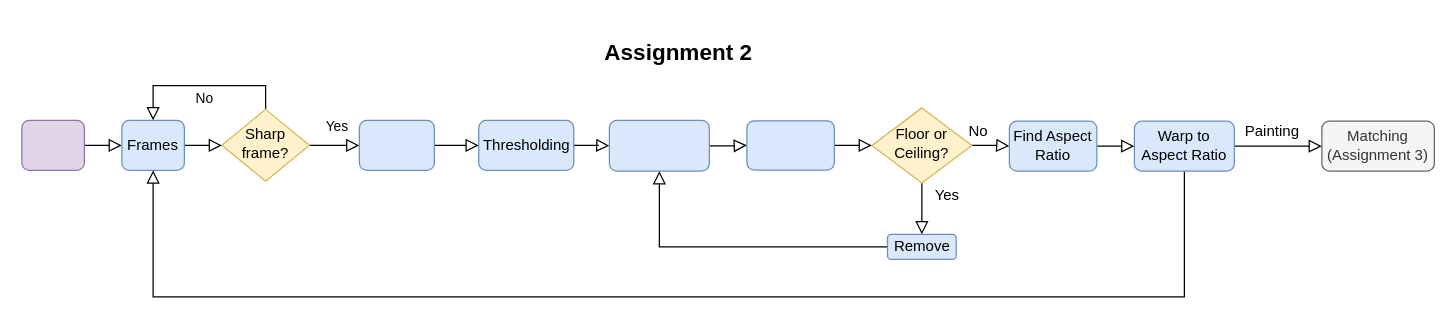
Image size: 1456x331. Some labels were removed from this diagram. The centre of each missing label's shape, as x and y in pixels:
"Find Corners" belongs at point 790,145.
"Find Largest Contour" belongs at point 658,145.
"Gaussian Blur" belongs at point 396,144.
"Video" belongs at point 52,144.
